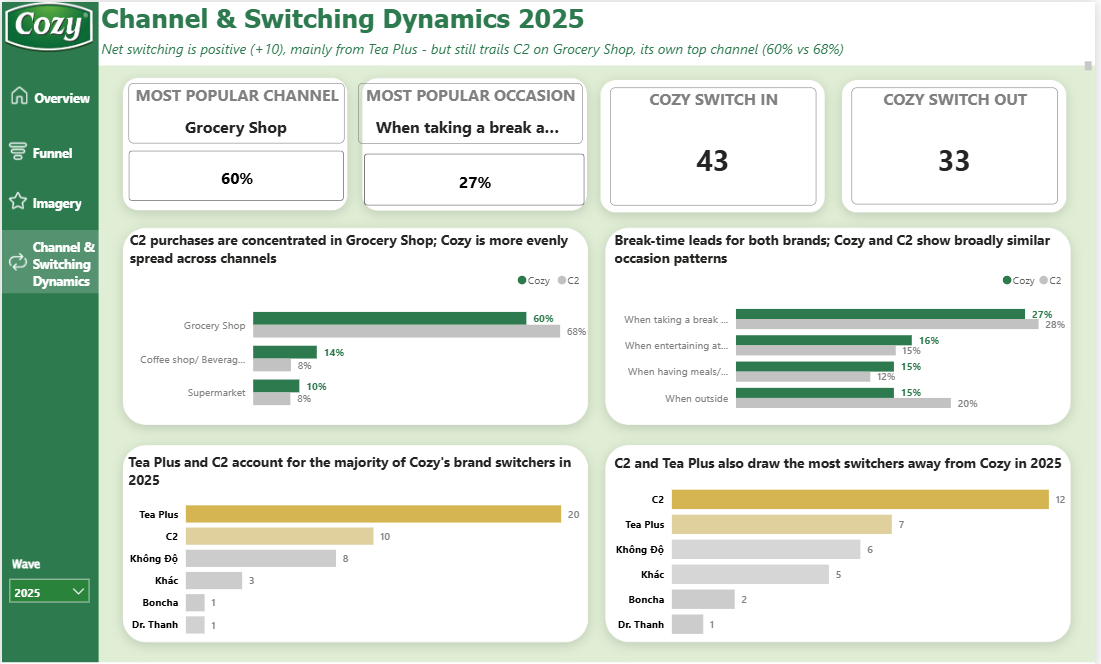

What the dashboard file says about the page in this screenshot:
{"tool":"powerbi","page":{"name":"Channel & Switching Dynamics","canvas":[1280,780],"ordinal":3},"visuals":[{"type":"cardVisual","title":"COZY SWITCH IN","fields":{"Data":["Channel.Cozy Switch In"]},"box":[712.1,100,241.5,138],"z":0},{"type":"group","id":"g1","title":"Group 1","box":[148.5,93.9,251.5,139.4],"z":1000},{"type":"group","id":"g2","title":"Group 1","box":[418.2,93.9,263.6,142.4],"z":2000},{"type":"cardVisual","title":"MOST POPULAR CHANNEL","fields":{"Data":["Fact Purchased Channel.Most Popular Channel Name"]},"box":[148.5,93.9,252.4,70.6],"z":3000,"group":"g1"},{"type":"cardVisual","title":"MOST POPULAR OCCASION","fields":{"Data":["Fact Occasion.Most Popular Occasion Name"]},"box":[418.2,93.9,262.5,71.5],"z":3000,"group":"g2"},{"type":"cardVisual","title":"COZY SWITCH OUT","fields":{"Data":["Channel.Cozy Switch Out"]},"box":[993.9,100,241.5,136.5],"z":3000},{"type":"cardVisual","fields":{"Data":["Fact Purchased Channel.Most Popular Channel Value"]},"box":[148.5,173.6,252.4,59.9],"z":4000,"group":"g1"},{"type":"cardVisual","fields":{"Data":["Fact Occasion.Most Popular Occasion Value"]},"box":[425,176.3,258.1,61.1],"z":4000,"group":"g2"},{"type":"slicer","fields":{"Values":["Dim_Respondent.Wave"]},"box":[0,642.4,113.3,73.3],"z":4000},{"type":"clusteredBarChart","title":"C2 purchases are concentrated in Grocery Shop; Cozy is more evenly spread across channels","fields":{"Category":["Fact Purchased Channel.Purchased channel"],"Y":["Fact Purchased Channel.Cozy Channel Share","Fact Purchased Channel.Channel Index vs C2"]},"box":[145.5,266.7,544,222],"z":5000},{"type":"clusteredBarChart","fields":{"Category":["Fact Funnel.Previous_Master_Brand"],"Y":["Channel.Cozy Switch In"]},"box":[143.9,525.8,538,228],"z":6000},{"type":"clusteredBarChart","fields":{"Category":["Dim Master Brand.Master_Brand"],"Y":["Channel.Cozy Switch Out"]},"box":[712.1,527.3,538,228],"z":7000},{"type":"clusteredBarChart","title":"Break-time leads for both brands; Cozy and C2 show broadly similar occasion patterns","fields":{"Category":["Fact Occasion.Occasion"],"Y":["Fact Occasion.Cozy Occasion Share","Fact Occasion.C2 Occasion Share"]},"box":[712.1,266.7,537.9,221.2],"z":8000},{"type":"image","box":[0,0,112.5,60.4],"z":9000},{"type":"actionButton","title":"Button Home","box":[1.6,84.1,112.7,50.8],"z":10000},{"type":"actionButton","title":"Button Home","box":[0,151.6,112.7,47.6],"z":11000},{"type":"actionButton","title":"Button Home","box":[0,216,112.7,33.3],"z":12000},{"type":"actionButton","title":"Button Home","box":[0,266,116,74],"z":13000},{"type":"textbox","title":"Channel & Switching Dynamics 2025","box":[112.1,0,1168.2,84.8],"z":14000}]}

Visuals, with their boxes on the page's 1280x780 design canvas (x1, y1, x2, y2). These are canvas units, not pixel positions in the 1101x664 screenshot, which may show the page scaled, cropped or inside an application window:
"COZY SWITCH IN" cardVisual: box=[712, 100, 954, 238]
"Group 1" group: box=[148, 94, 400, 233]
"Group 1" group: box=[418, 94, 682, 236]
"MOST POPULAR CHANNEL" cardVisual: box=[148, 94, 401, 164]
"MOST POPULAR OCCASION" cardVisual: box=[418, 94, 681, 165]
"COZY SWITCH OUT" cardVisual: box=[994, 100, 1235, 236]
cardVisual - Fact Purchased Channel.Most Popular Channel Value: box=[148, 174, 401, 234]
cardVisual - Fact Occasion.Most Popular Occasion Value: box=[425, 176, 683, 237]
slicer - Dim_Respondent.Wave: box=[0, 642, 113, 716]
"C2 purchases are concentrated in Grocery Shop; Cozy is more evenly spread across channels" clusteredBarChart: box=[146, 267, 690, 489]
clusteredBarChart - Fact Funnel.Previous_Master_Brand x Channel.Cozy Switch In: box=[144, 526, 682, 754]
clusteredBarChart - Dim Master Brand.Master_Brand x Channel.Cozy Switch Out: box=[712, 527, 1250, 755]
"Break-time leads for both brands; Cozy and C2 show broadly similar occasion patterns" clusteredBarChart: box=[712, 267, 1250, 488]
image: box=[0, 0, 112, 60]
"Button Home" actionButton: box=[2, 84, 114, 135]
"Button Home" actionButton: box=[0, 152, 113, 199]
"Button Home" actionButton: box=[0, 216, 113, 249]
"Button Home" actionButton: box=[0, 266, 116, 340]
"Channel & Switching Dynamics 2025" textbox: box=[112, 0, 1280, 85]
